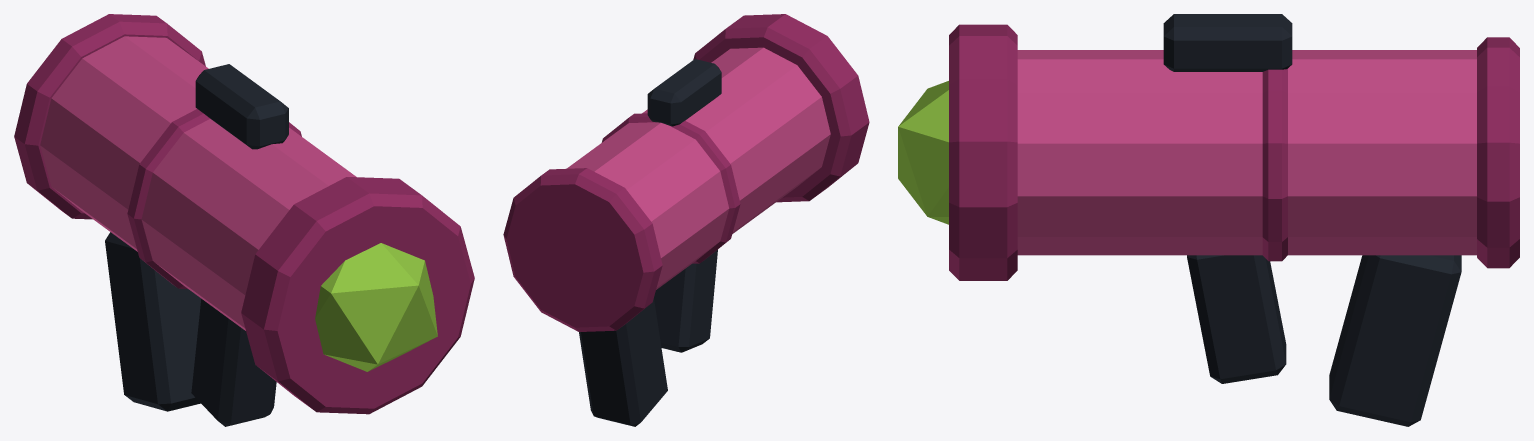
Rendered from wpn_lobber.glb.
The picture shows the model from 3 angles, left to right: view 1: azimuth 30°, elevation 25°; view 2: azimuth 150°, elevation 25°; view 3: azimuth 270°, elevation 25°; orthographic projection. The views are drawn at different scales.
Parts seen in each view (by area): view 1: GEO_weapon; view 2: GEO_weapon; view 3: GEO_weapon.
Boxes of the visible parts, x1=… form: GEO_weapon: x1=14, y1=14, x2=474, y2=426; GEO_weapon: x1=503, y1=14, x2=869, y2=426; GEO_weapon: x1=898, y1=14, x2=1519, y2=426.
Size of the model in its own units: 0.435 by 0.7353 by 1.05.
